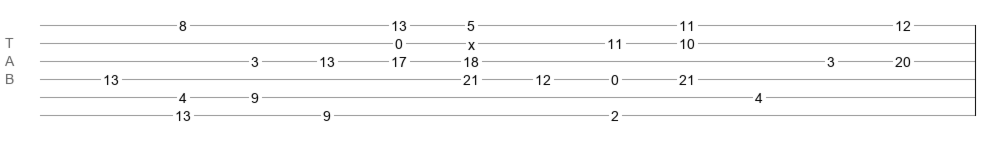0: (395, 36, 403, 46), (611, 72, 619, 82)
10: (679, 36, 695, 46)
11: (607, 36, 623, 46), (679, 18, 695, 28)
12: (535, 72, 551, 82), (895, 18, 911, 28)
13: (103, 72, 119, 82), (175, 108, 191, 118), (319, 54, 335, 64), (391, 18, 407, 28)
17: (391, 54, 407, 64)
18: (463, 54, 479, 64)
2: (611, 108, 619, 118)
20: (895, 54, 911, 64)
21: (463, 72, 479, 82), (679, 72, 695, 82)
3: (251, 54, 259, 64), (827, 54, 835, 64)
4: (179, 90, 187, 100), (755, 90, 763, 100)
5: (467, 18, 475, 28)
8: (179, 18, 187, 28)
9: (251, 90, 259, 100), (323, 108, 331, 118)
x: (468, 37, 475, 45)
